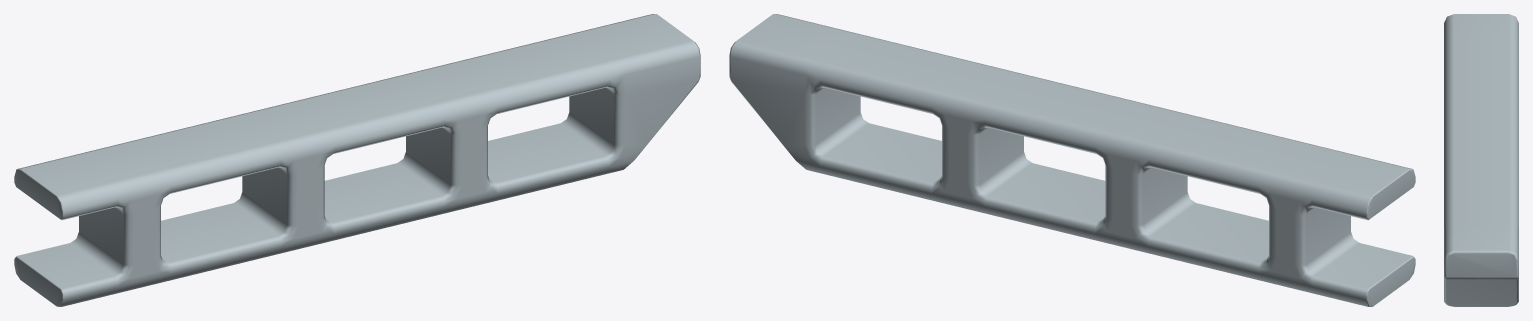
Rendered from beam_003.fbx.
The picture shows the model from 3 angles, left to right: view 1: azimuth 30°, elevation 25°; view 2: azimuth 150°, elevation 25°; view 3: azimuth 270°, elevation 25°; orthographic projection. The views are drawn at different scales.
Visible parts, largest first — view 1: beam_003; view 2: beam_003; view 3: beam_003.
Part boxes in pixels (<box>): beam_003: <box>14,14,700,306</box>; beam_003: <box>729,14,1415,306</box>; beam_003: <box>1444,14,1518,306</box>.
Size of the model in its own units: 2535 by 337 by 423.
